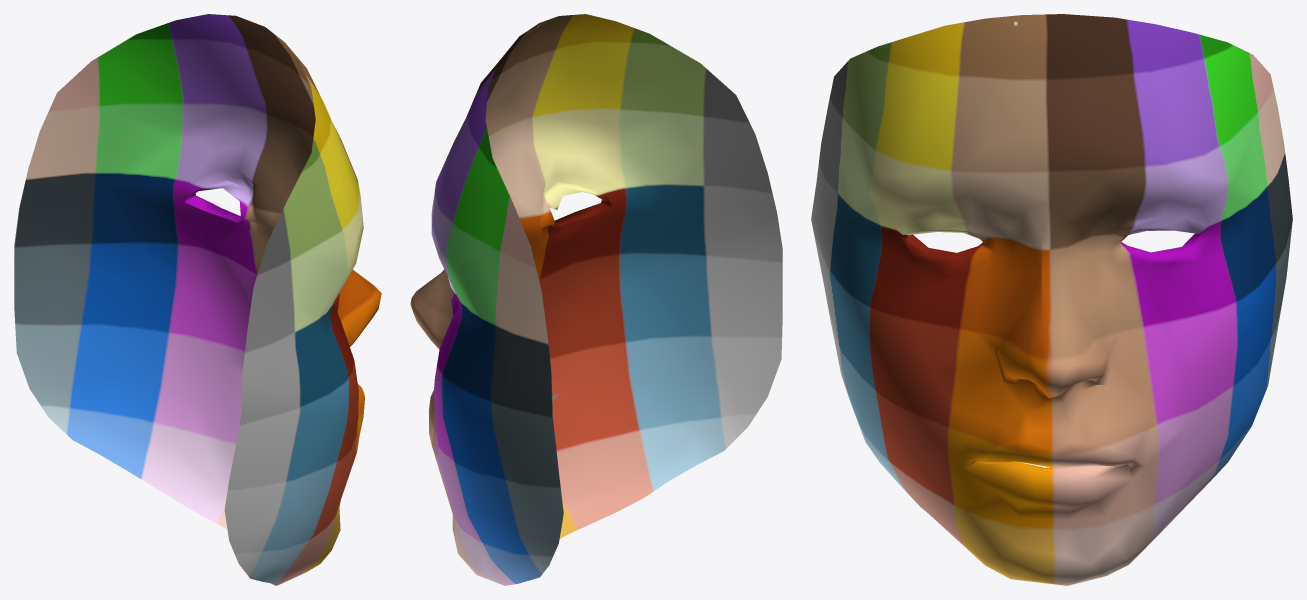
File: Mask.fbx
3 renders of one model, left to right at view 1: azimuth 30°, elevation 25°; view 2: azimuth 150°, elevation 25°; view 3: azimuth 270°, elevation 25°, orthographic. The views are drawn at different scales.
Visible parts, largest first — view 1: JODIE_HEAD; view 2: JODIE_HEAD; view 3: JODIE_HEAD.
Boxes of the visible parts, x1=… form: JODIE_HEAD: x1=14, y1=14, x2=381, y2=585; JODIE_HEAD: x1=410, y1=14, x2=782, y2=585; JODIE_HEAD: x1=811, y1=14, x2=1292, y2=585.
Size of the model in its own units: 109 by 213 by 166.
